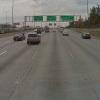Car: (24, 26, 41, 50)
